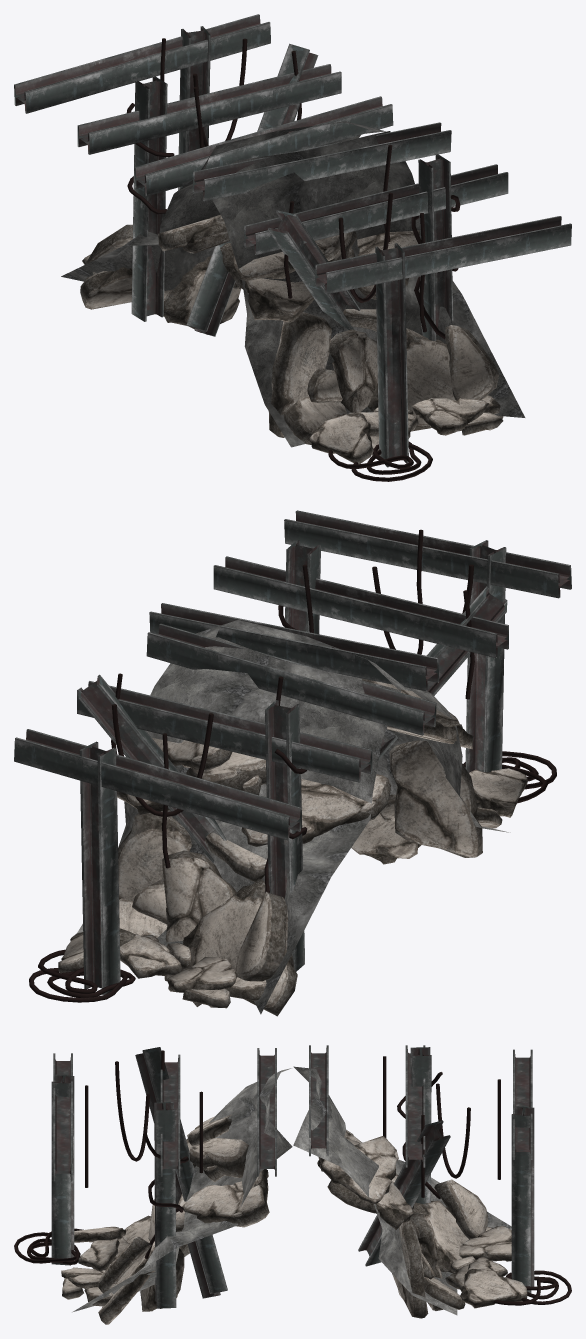
The model's file is walldebrisdouble.dae.
3 views of the same model, one above another, from view 1: azimuth 30°, elevation 25°; view 2: azimuth 150°, elevation 25°; view 3: azimuth 270°, elevation 25° (orthographic). The views are drawn at different scales.
Visible parts, largest first — view 1: ColumnH, ConcreteRubble, Rubble, Cable; view 2: ColumnH, ConcreteRubble, Rubble, Cable; view 3: ConcreteRubble, ColumnH, Rubble, Cable.
Part boxes in pixels (x1,y1,x2,y2): ColumnH: [14, 14, 571, 467]; ConcreteRubble: [80, 215, 503, 464]; Rubble: [61, 121, 525, 447]; Cable: [126, 38, 460, 481]; ColumnH: [14, 510, 571, 995]; ConcreteRubble: [58, 678, 527, 1016]; Rubble: [77, 620, 510, 1014]; Cable: [29, 529, 556, 1002]; ConcreteRubble: [61, 1114, 527, 1324]; ColumnH: [51, 1045, 534, 1308]; Rubble: [72, 1066, 511, 1315]; Cable: [14, 1050, 571, 1305].
Size of the model in its own units: 7.49 by 15.51 by 7.25.
Materials: 4 (4 with a texture image).
